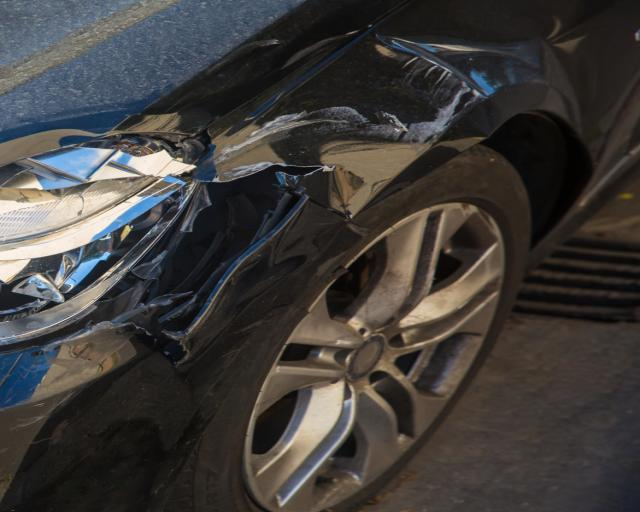crack: (137, 327, 189, 367), (264, 164, 328, 176)
dent: (204, 35, 463, 150)
lamp broken: (0, 133, 239, 351)
scratch: (14, 325, 132, 431)
